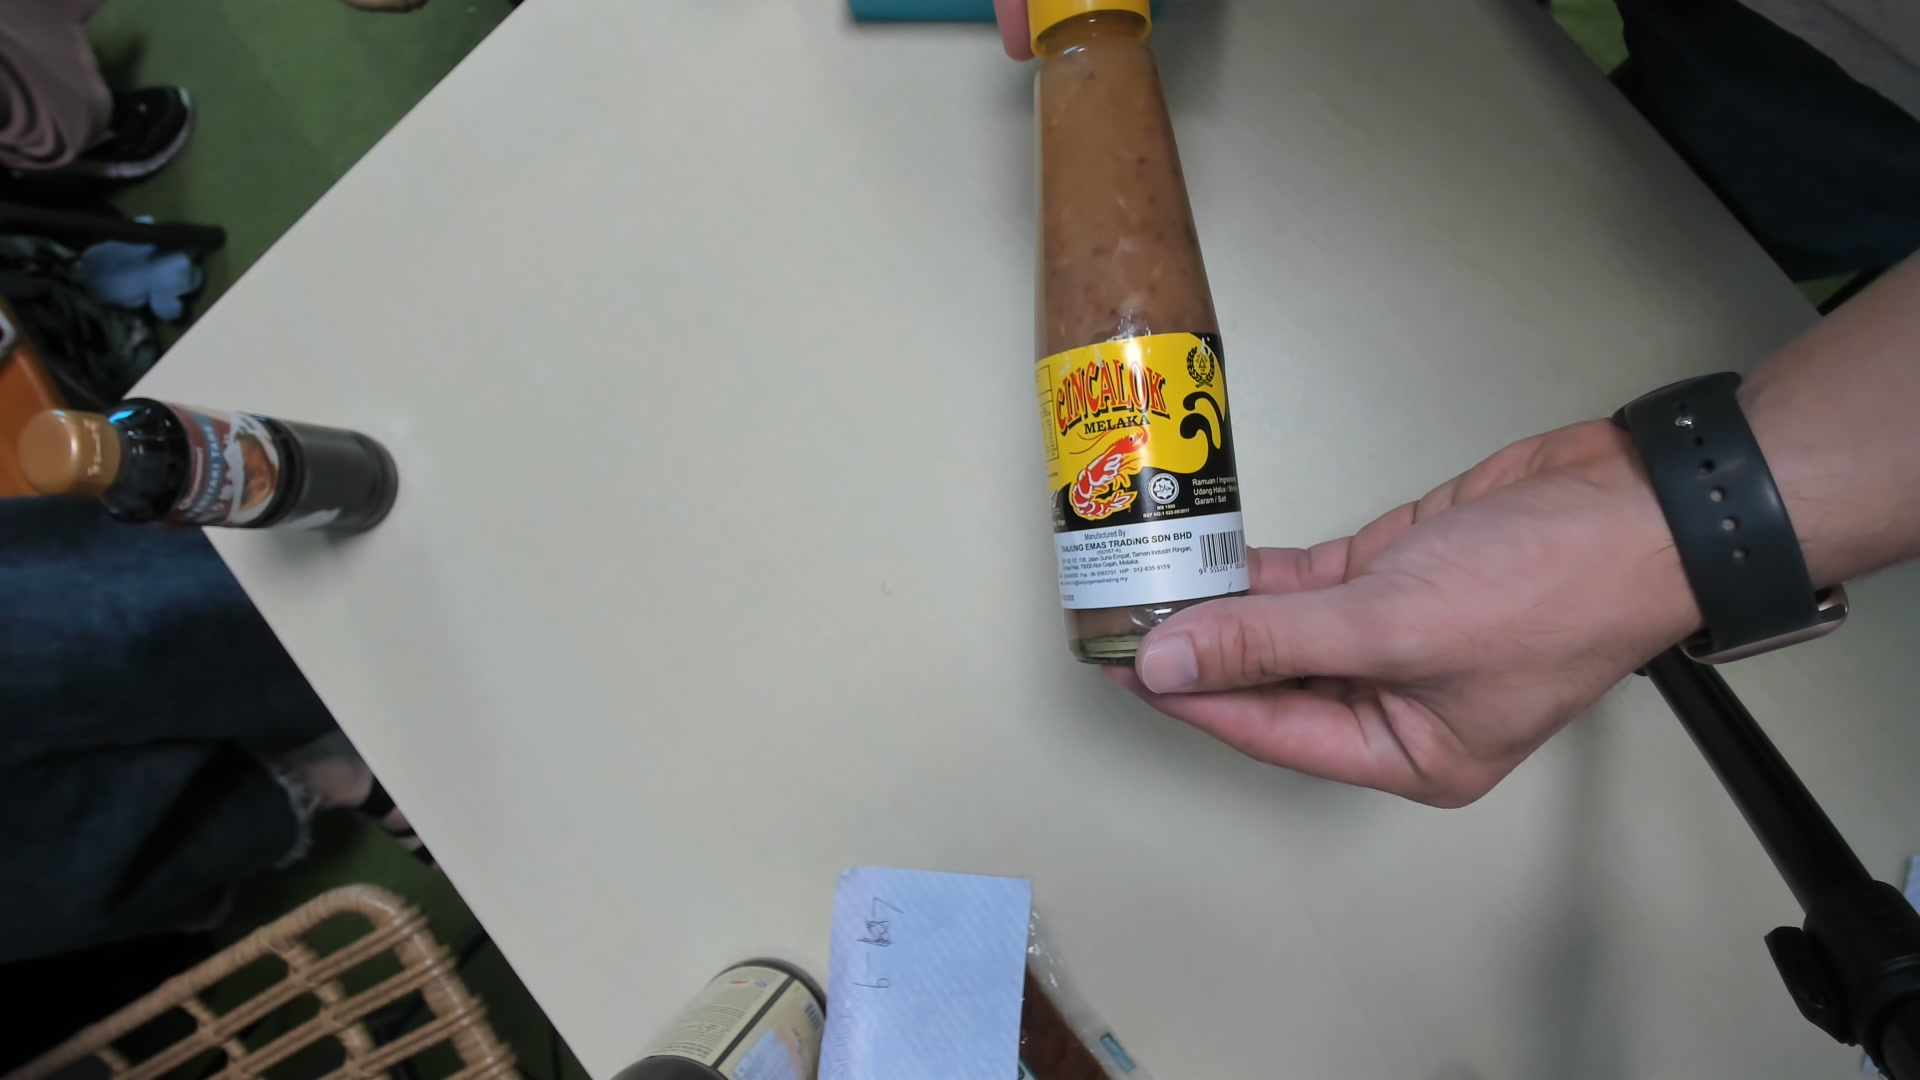OtherSauceDressingSoupbasePaste_200-299g_Halal_NonHealthy: (1019, 3, 1266, 649)
